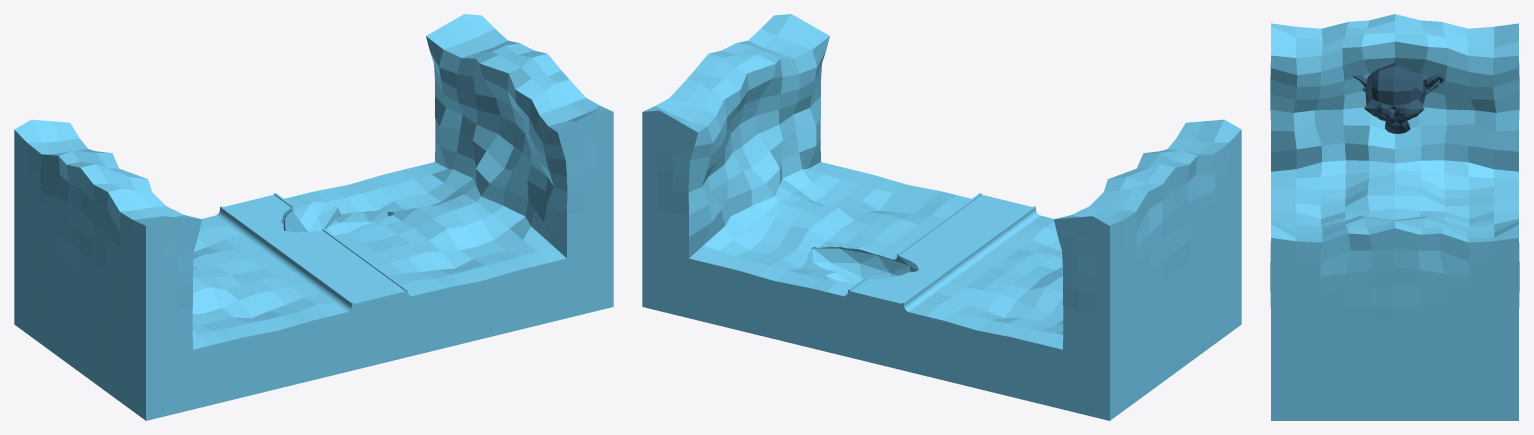
The model's file is level_L7.fbx.
3 renders of one model, left to right at view 1: azimuth 30°, elevation 25°; view 2: azimuth 150°, elevation 25°; view 3: azimuth 270°, elevation 25°, orthographic. The views are drawn at different scales.
Parts seen in each view (by area): view 1: Level7; view 2: Level7; view 3: Level7.
Boxes of the visible parts, x1,y1,x2,y2 form: Level7: [14, 14, 613, 420]; Level7: [642, 14, 1241, 420]; Level7: [1270, 14, 1519, 420].
Size of the model in its own units: 4925 by 2058 by 2416.
